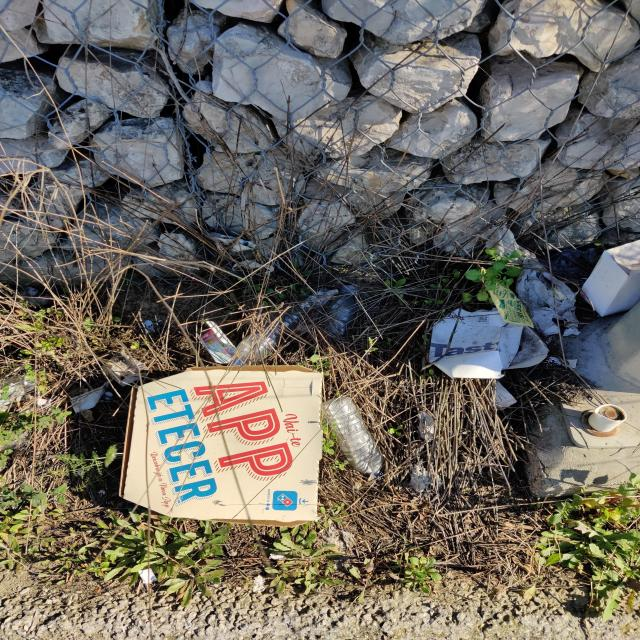litter: (118, 365, 323, 528), (483, 226, 581, 338), (429, 308, 550, 379), (321, 396, 386, 483), (227, 304, 307, 366), (578, 240, 640, 318), (480, 267, 533, 328), (317, 285, 359, 339), (0, 372, 52, 414), (99, 350, 152, 387), (195, 321, 237, 364), (69, 378, 113, 414), (298, 287, 337, 311), (495, 379, 517, 412), (12, 295, 56, 310), (547, 356, 577, 369), (137, 568, 159, 585)
